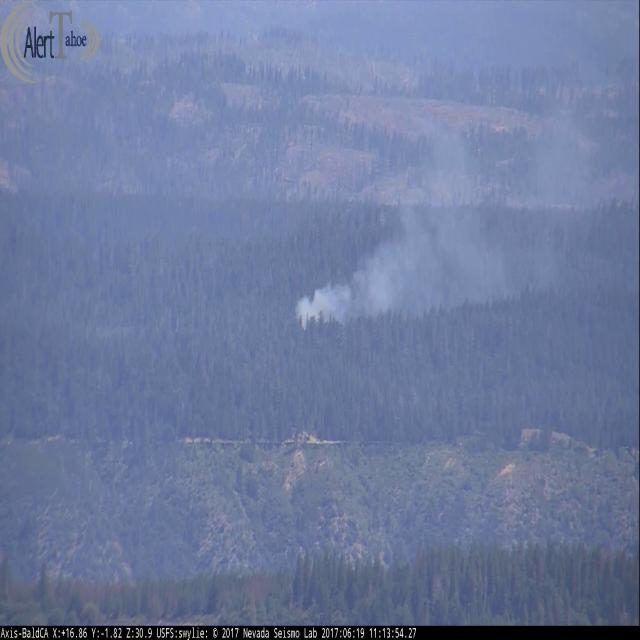smoke: (279, 94, 618, 316)
